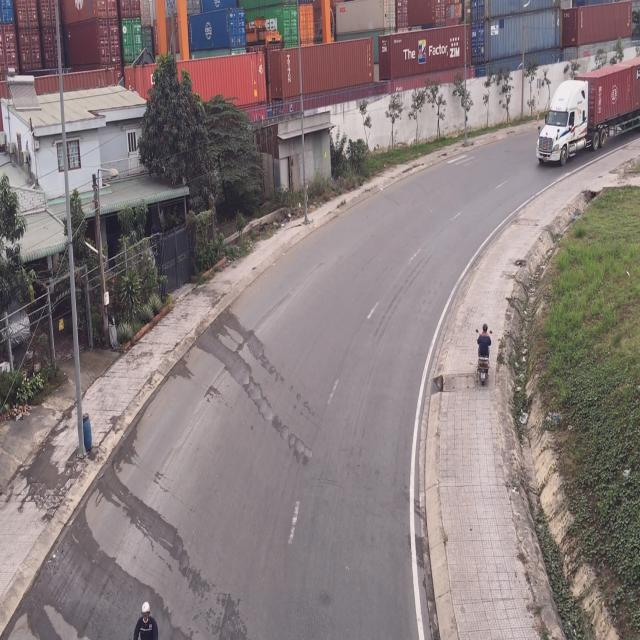motorbike: (130, 601, 162, 640), (476, 324, 492, 387)
truck: (535, 65, 639, 170)
